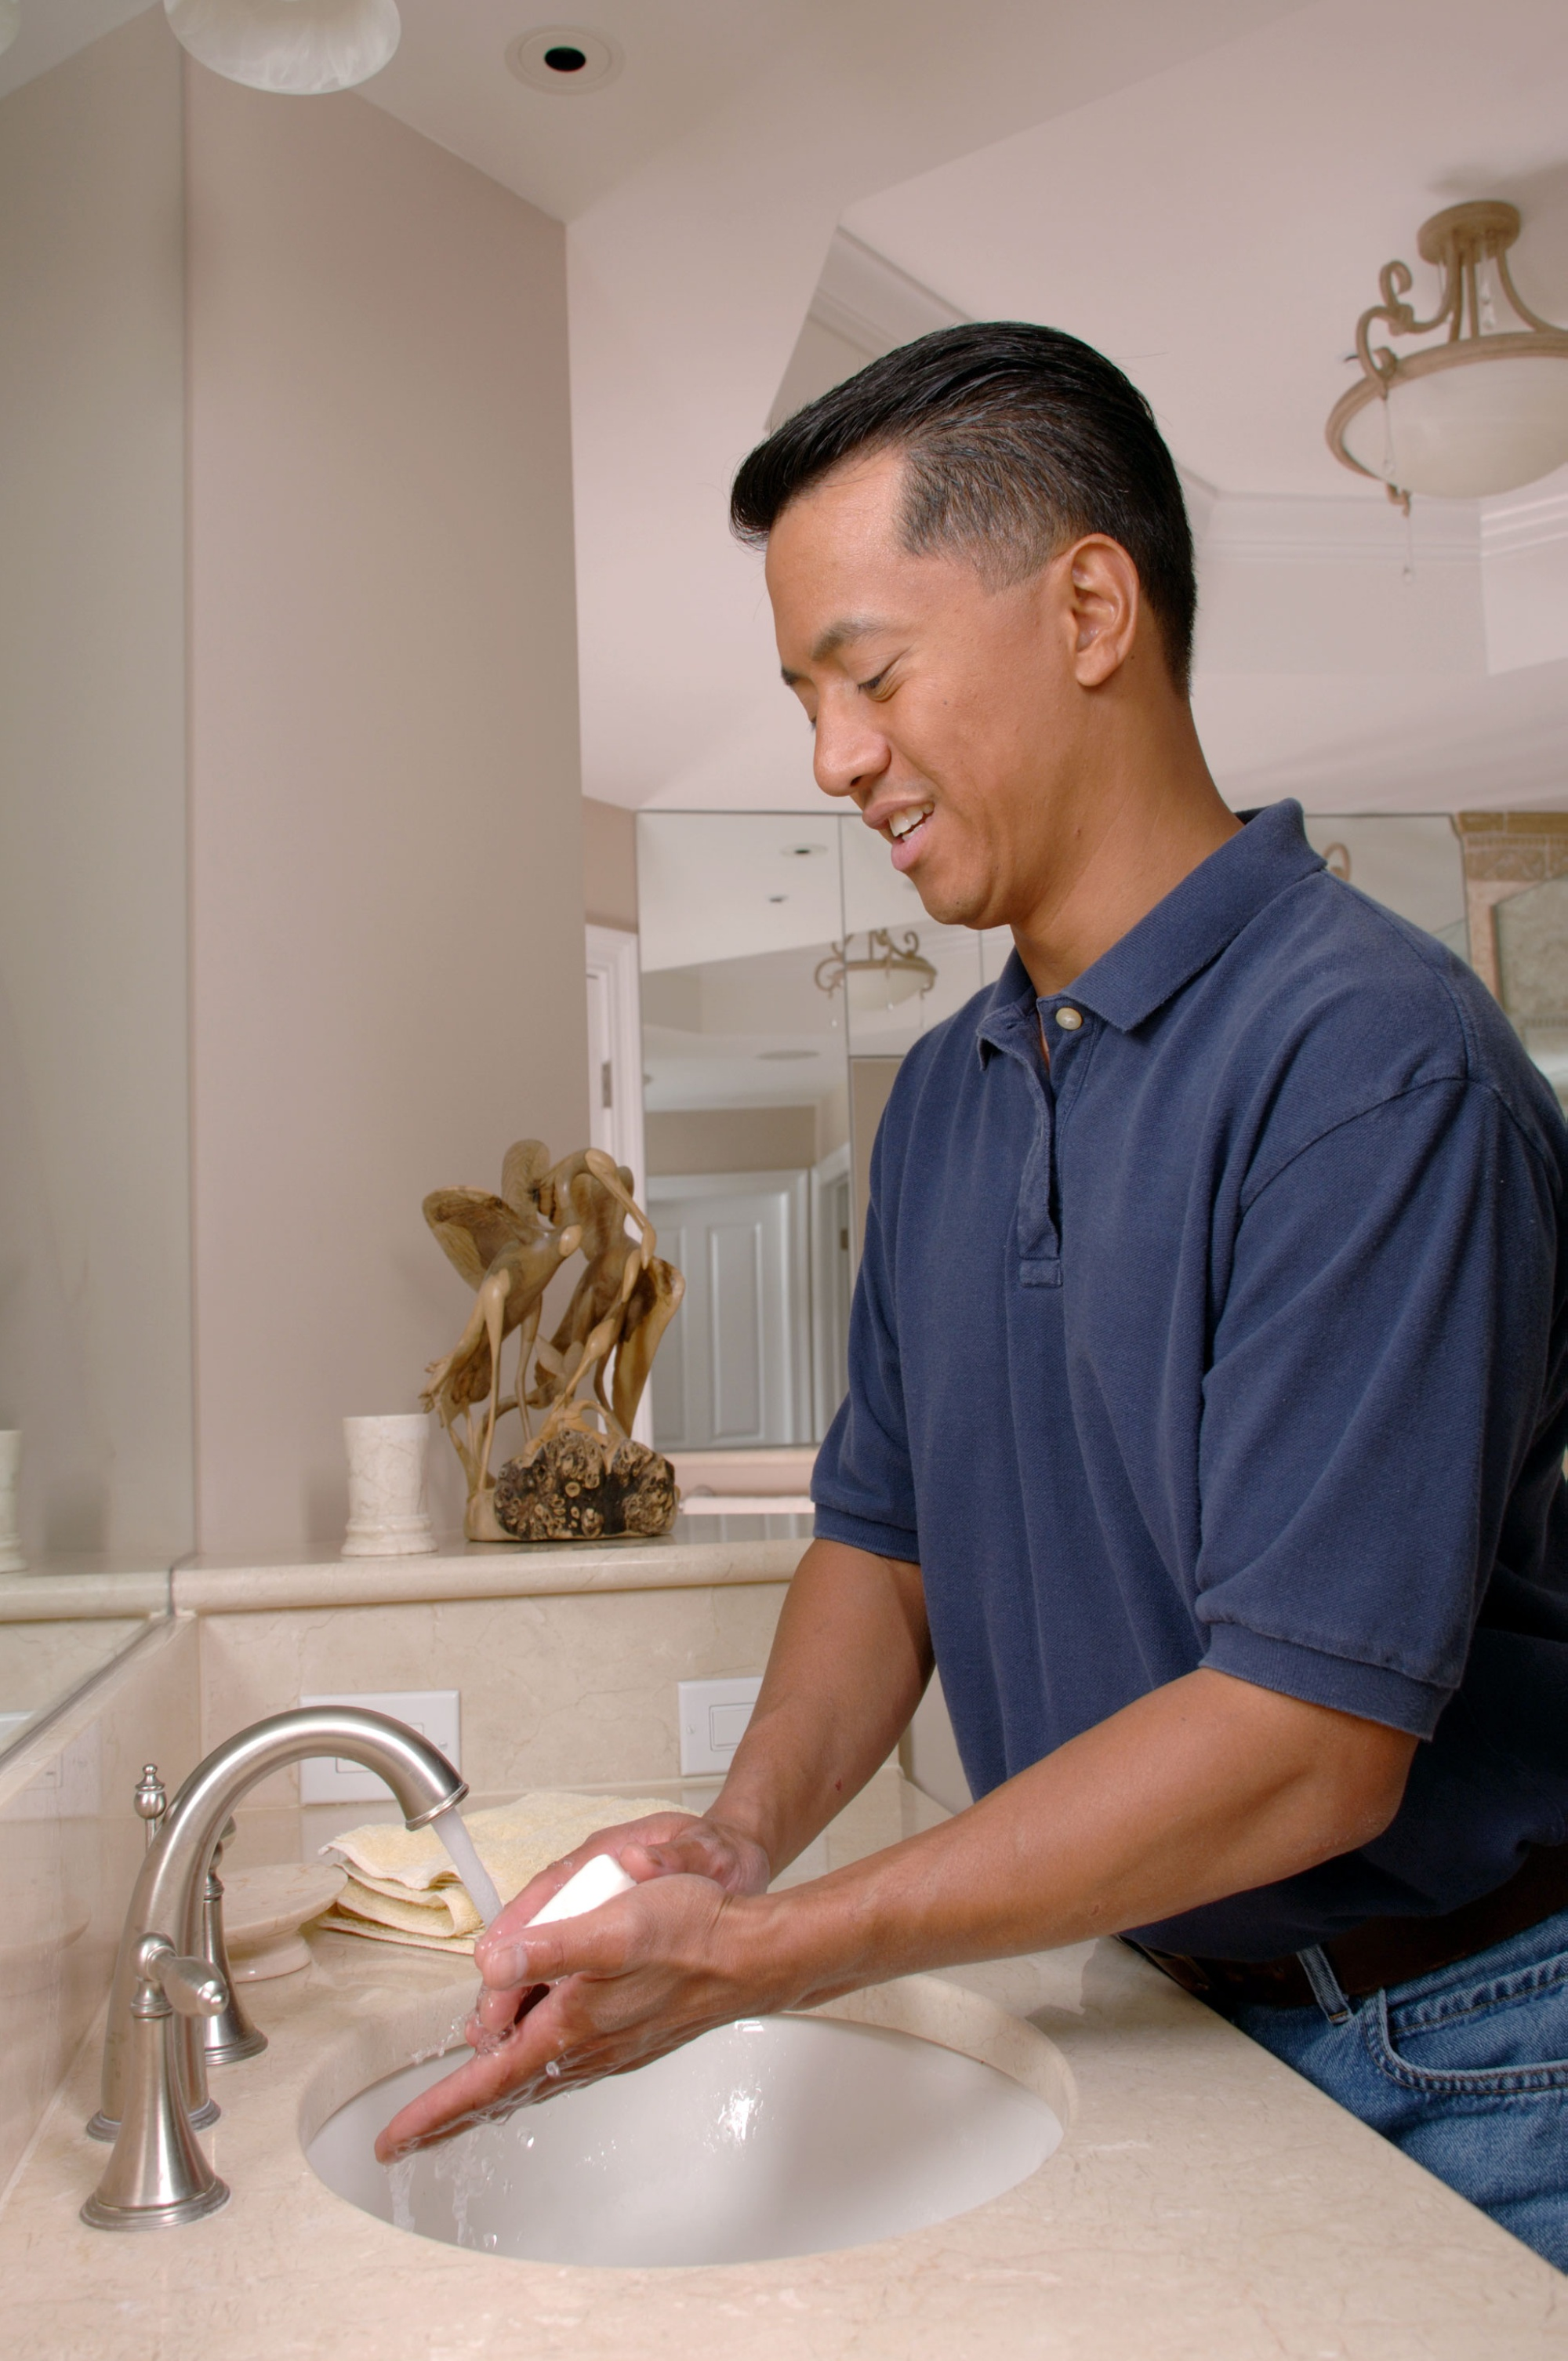washing hand: (73, 1533, 747, 2223)
